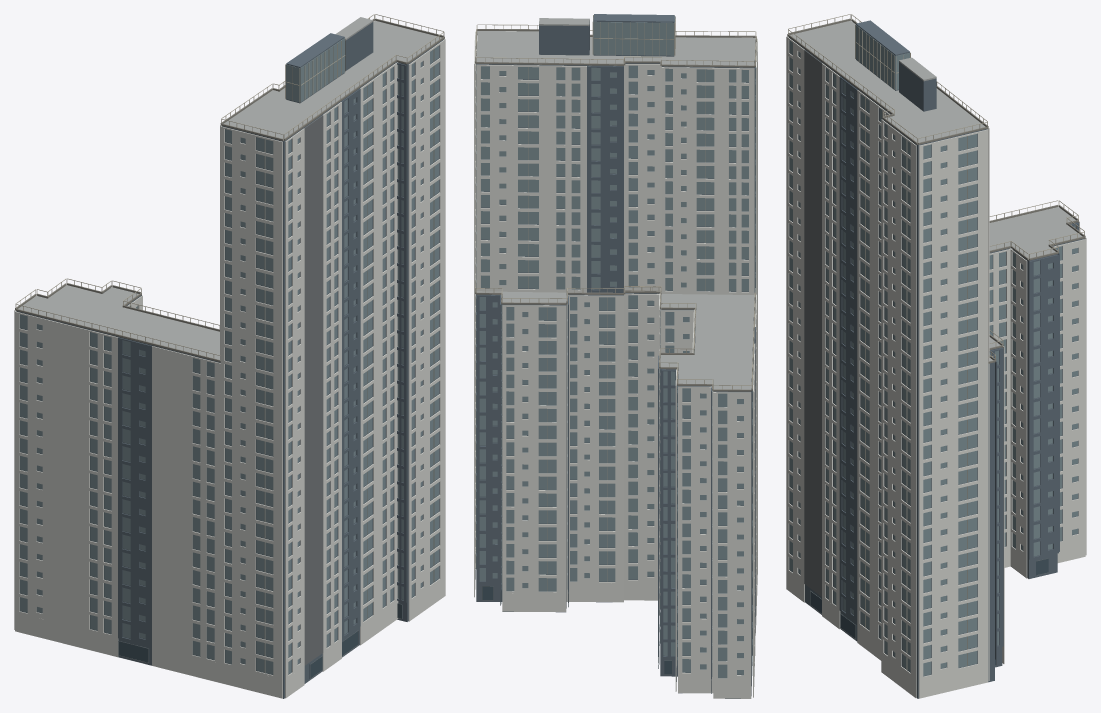
File: bespoke-raemian-onebailey-117.glb
3 renders of one model, left to right at view 1: azimuth 30°, elevation 25°; view 2: azimuth 150°, elevation 25°; view 3: azimuth 270°, elevation 25°, orthographic. The views are drawn at different scales.
Parts seen in each view (by area): view 1: 117_pale_bays_navy_shafts_5, 117_pale_bays_navy_shafts_1, 117_editable_massing, 117_glass_roof_crown_4, 117_pale_bays_navy_shafts_6, 117_pale_bays_navy_shafts_3, 117_glass_roof_crown_1, 117_pale_bays_navy_shafts_2; view 2: 117_pale_bays_navy_shafts_5, 117_pale_bays_navy_shafts_1, 117_editable_massing, 117_glass_roof_crown_4, 117_pale_bays_navy_shafts_3, 117_glass_roof_crown_1; view 3: 117_pale_bays_navy_shafts_5, 117_pale_bays_navy_shafts_1, 117_editable_massing, 117_pale_bays_navy_shafts_6, 117_glass_roof_crown_4, 117_pale_bays_navy_shafts_3, 117_glass_roof_crown_1, 117_pale_bays_navy_shafts_2.
Part boxes in pixels (x1,y1,x2,y2): 117_pale_bays_navy_shafts_5: [14, 22, 445, 698]; 117_pale_bays_navy_shafts_1: [20, 38, 438, 674]; 117_editable_massing: [16, 22, 443, 698]; 117_glass_roof_crown_4: [18, 17, 441, 359]; 117_pale_bays_navy_shafts_6: [118, 115, 402, 678]; 117_pale_bays_navy_shafts_3: [15, 14, 444, 672]; 117_glass_roof_crown_1: [15, 18, 444, 362]; 117_pale_bays_navy_shafts_2: [118, 603, 402, 678]; 117_pale_bays_navy_shafts_5: [474, 31, 757, 698]; 117_pale_bays_navy_shafts_1: [476, 15, 755, 677]; 117_editable_massing: [476, 14, 755, 698]; 117_glass_roof_crown_4: [476, 18, 755, 391]; 117_pale_bays_navy_shafts_3: [475, 15, 756, 591]; 117_glass_roof_crown_1: [475, 29, 756, 391]; 117_pale_bays_navy_shafts_5: [786, 22, 1086, 698]; 117_pale_bays_navy_shafts_1: [790, 25, 1077, 675]; 117_editable_massing: [788, 20, 1083, 698]; 117_pale_bays_navy_shafts_6: [804, 50, 1048, 665]; 117_glass_roof_crown_4: [790, 20, 1082, 360]; 117_pale_bays_navy_shafts_3: [788, 14, 1084, 669]; 117_glass_roof_crown_1: [787, 18, 1085, 363]; 117_pale_bays_navy_shafts_2: [810, 558, 1048, 665].
Bounding box in the file's own units: 65.09 × 103 × 47.26.
